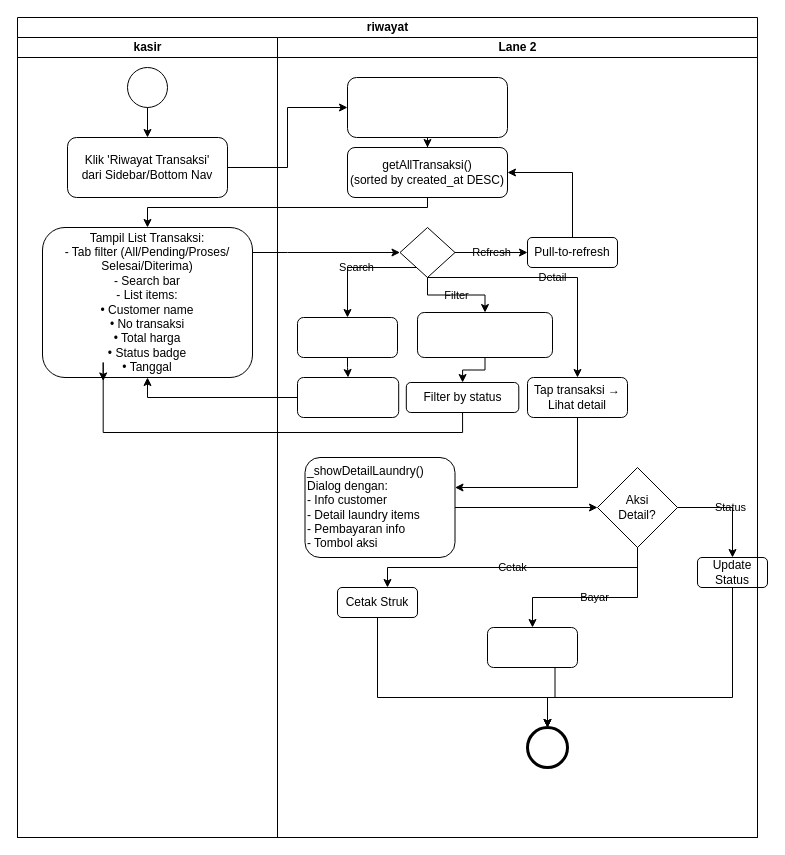
Some shapes in this 785 by 855 pixel diagram are drawn without their labels. The centre of each missing label's shape, as x and y in pixels:
"Aksi?" belongs at (x=427, y=252).
"Filter local (by search query)" belongs at (x=347, y=397).
"Input Pembayaran" belongs at (x=532, y=647).
"Input search (customer name)" belongs at (x=347, y=337).
"Navigate to KasirRiwayat page" belongs at (x=427, y=107).
"Tap tab filter (All/Pending/Proses/etc)" belongs at (x=484, y=335).
